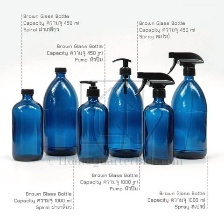bottle: (106, 63, 145, 160), (171, 66, 209, 160), (41, 65, 79, 158), (140, 87, 176, 168), (75, 86, 109, 166), (10, 84, 44, 163)
